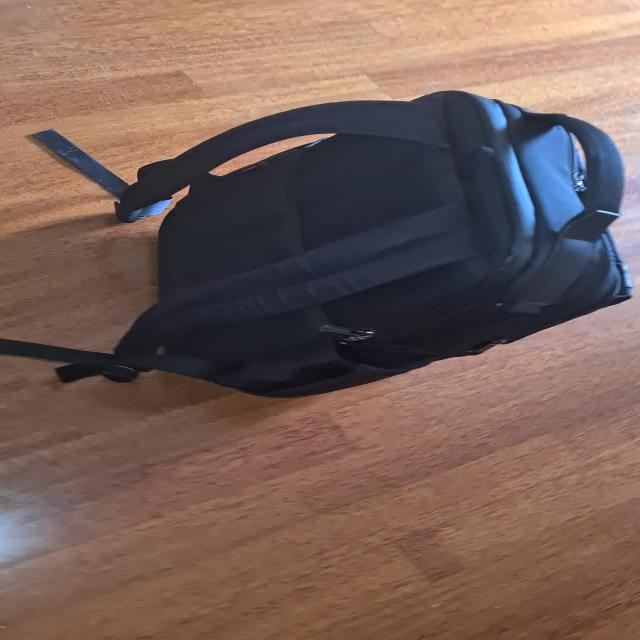backpack: (98, 76, 640, 404)
